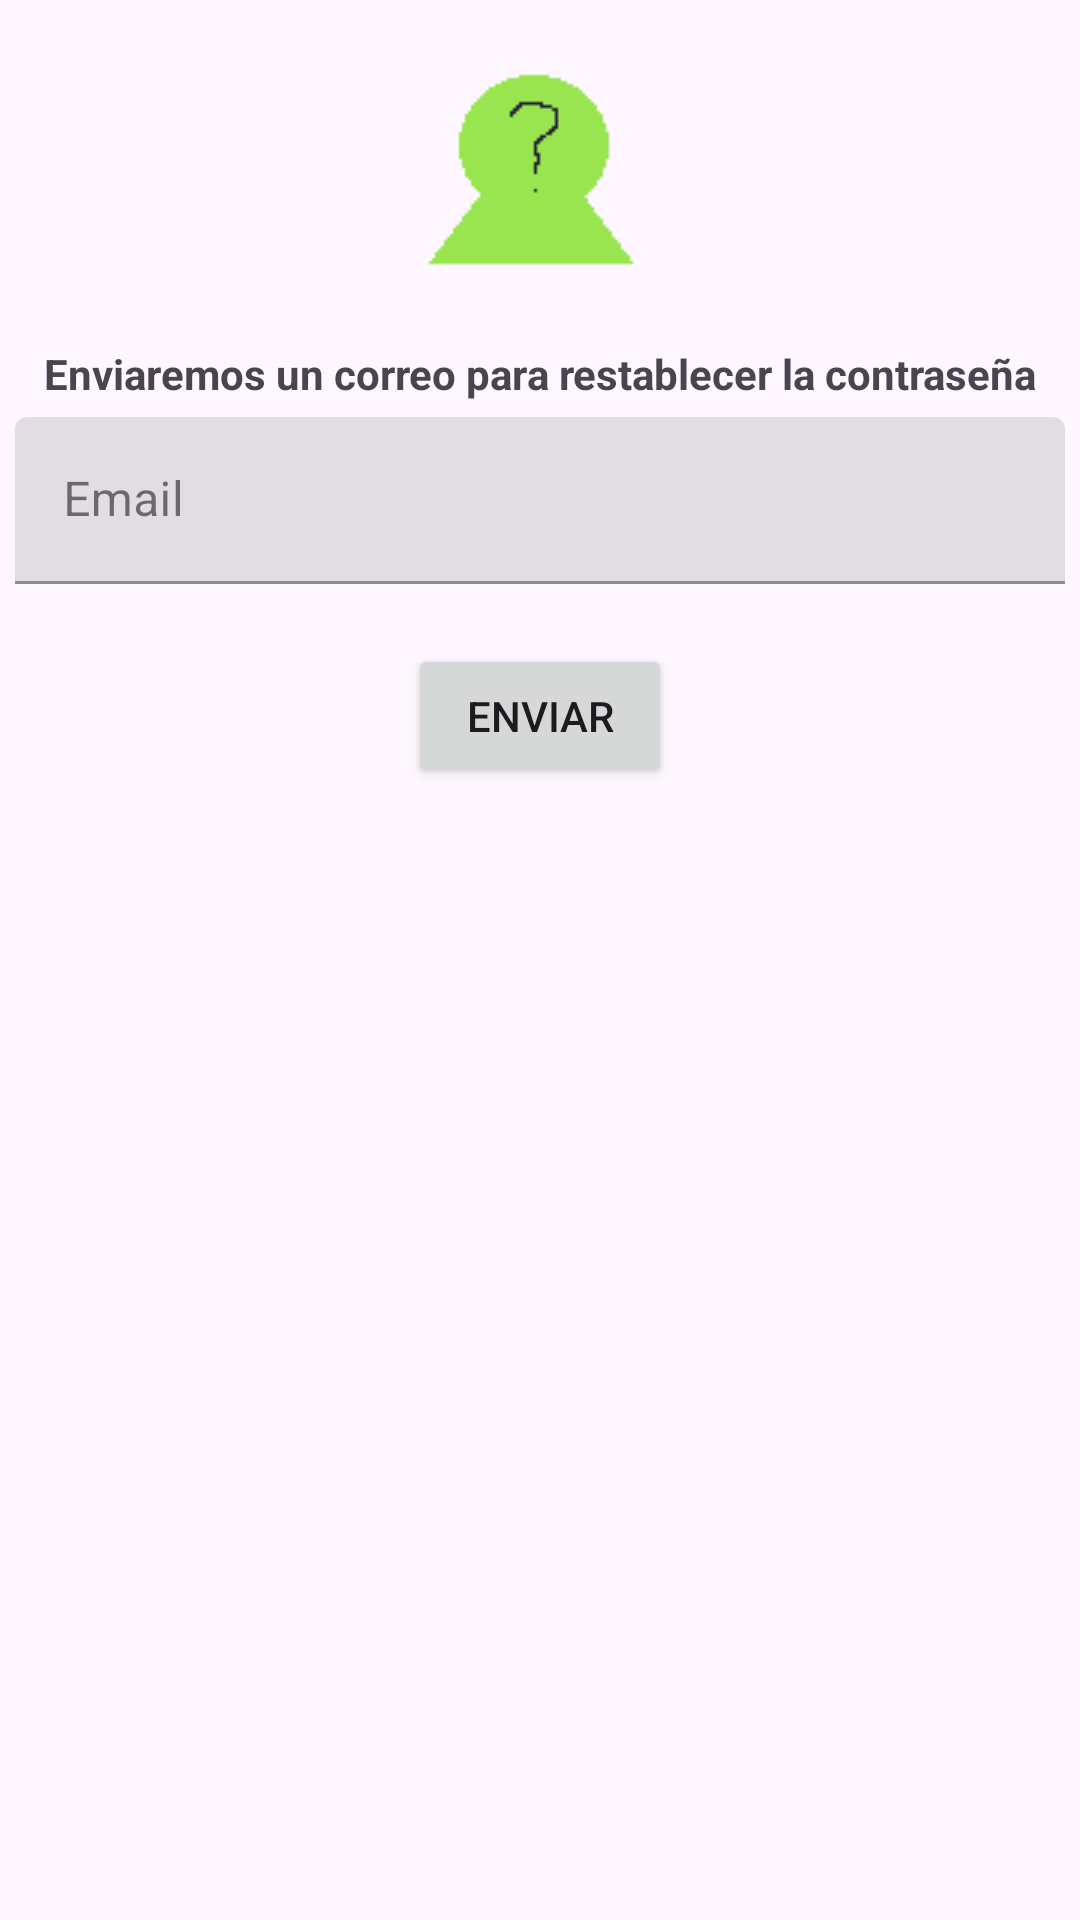

Named icons in this screenshot (1080 x 1920) and their bounding boxes, (x1, y1, x2, y2):
avatarolvida: (428, 74, 634, 265)
